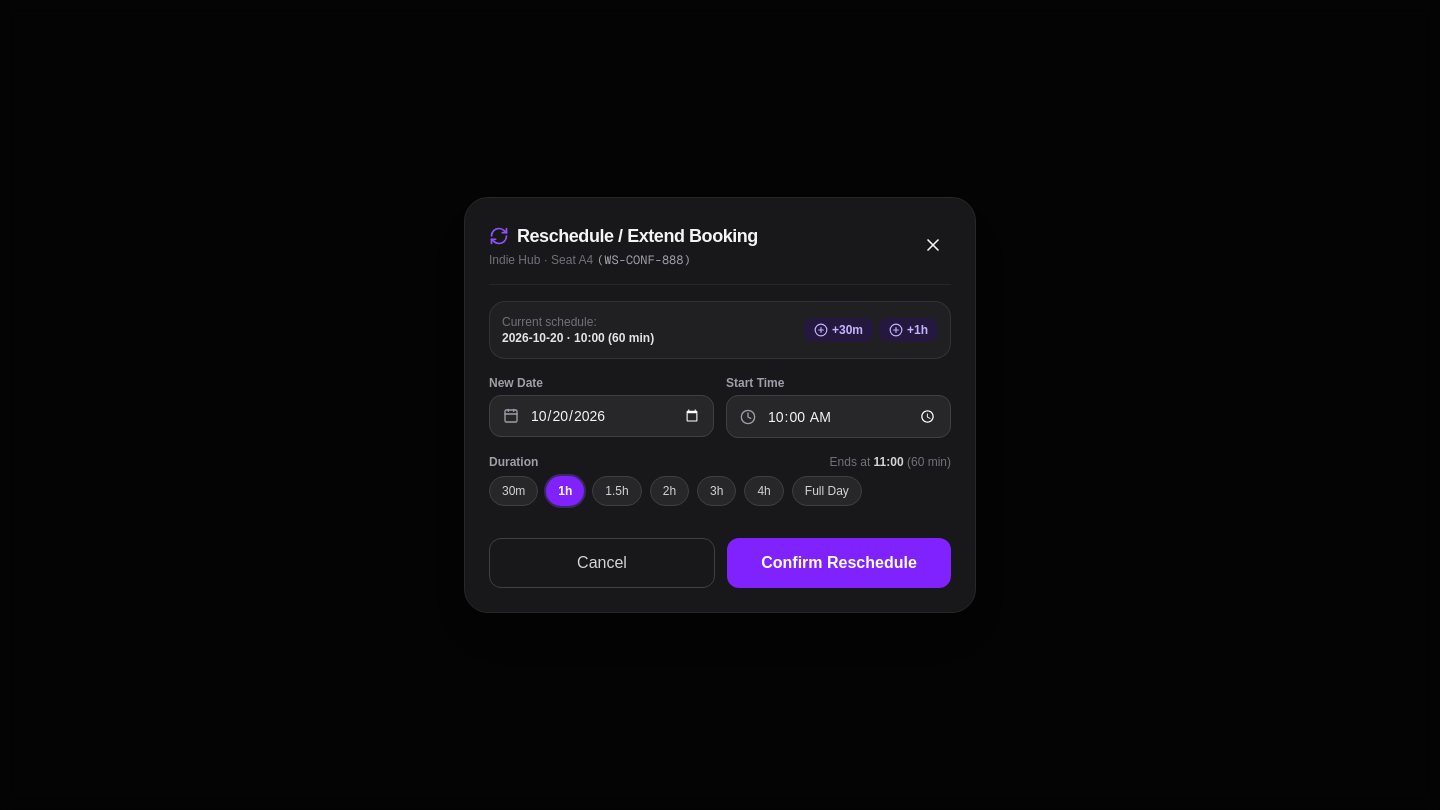
Test case: RescheduleModal Component › displays error message when API returns failure
The width and height of the screenshot is (1440, 810).
Click the button with test id "reschedule-submit-button". click: click(839, 563)
box: [727,538,951,588]
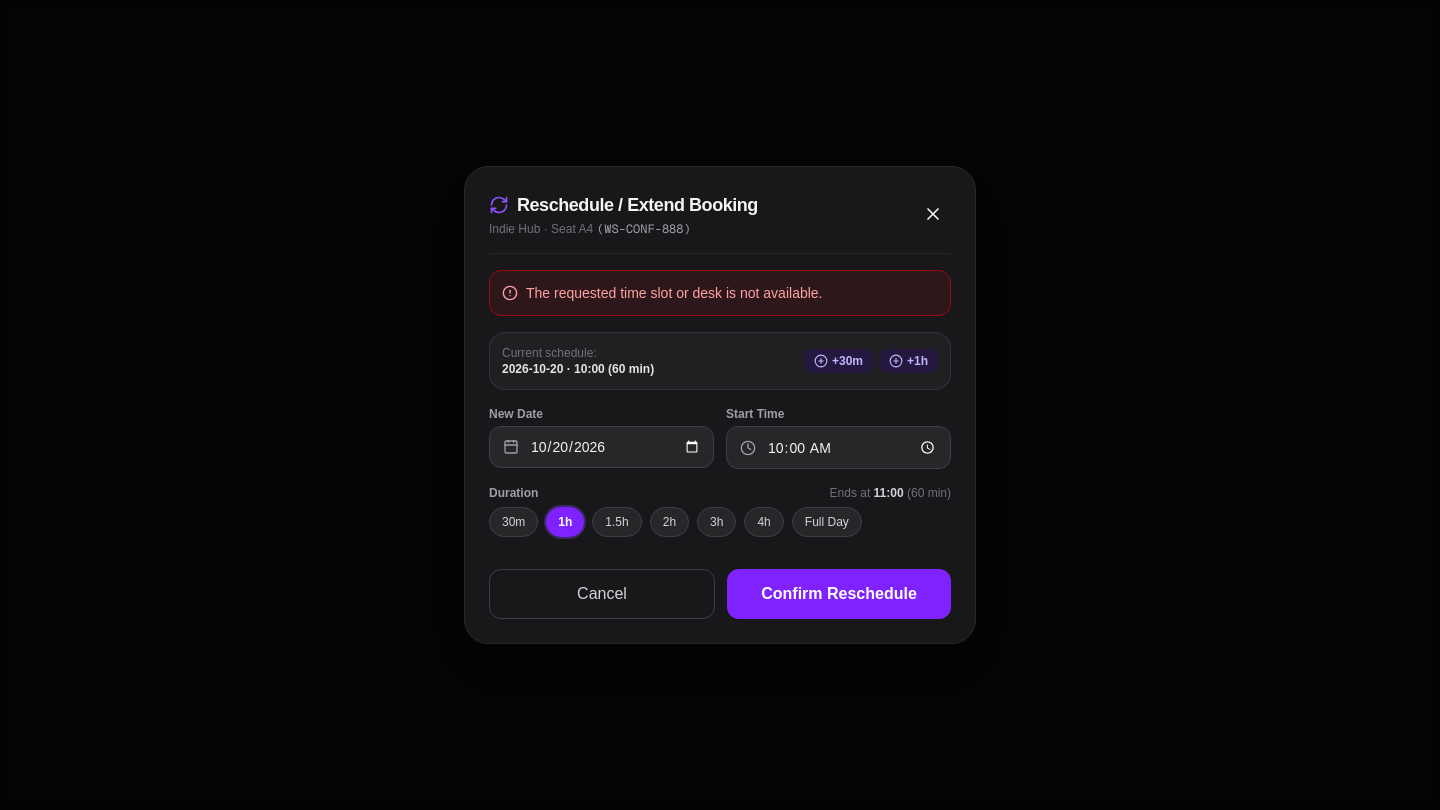
expect the text "The requested time slot or desk is not available." is shown: met, box [526,283,822,303]
